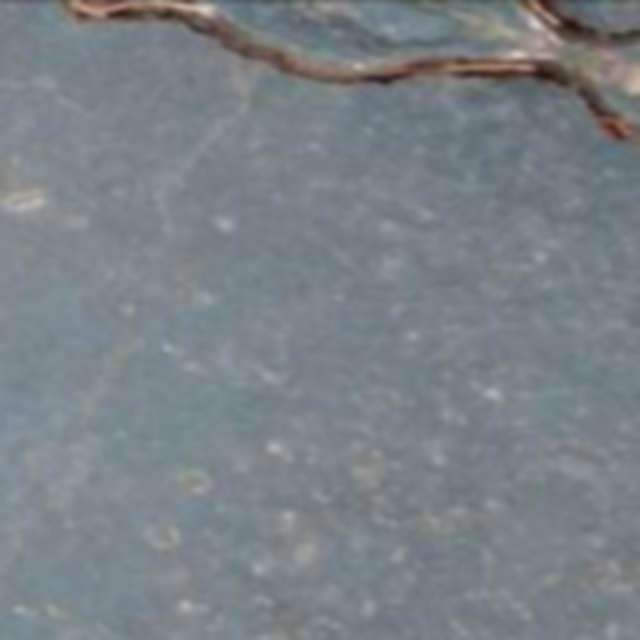SurfaceCrack: (50, 0, 640, 166)
